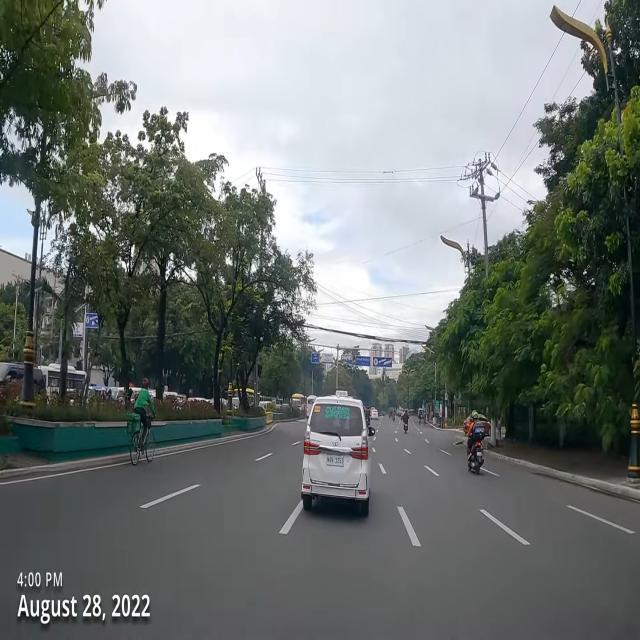bike: (126, 377, 155, 465)
car: (303, 391, 371, 518), (463, 412, 491, 438)
jeepney: (306, 394, 318, 420)
motorcycle: (466, 408, 486, 475), (403, 408, 410, 434), (366, 403, 372, 427), (392, 409, 395, 422)
